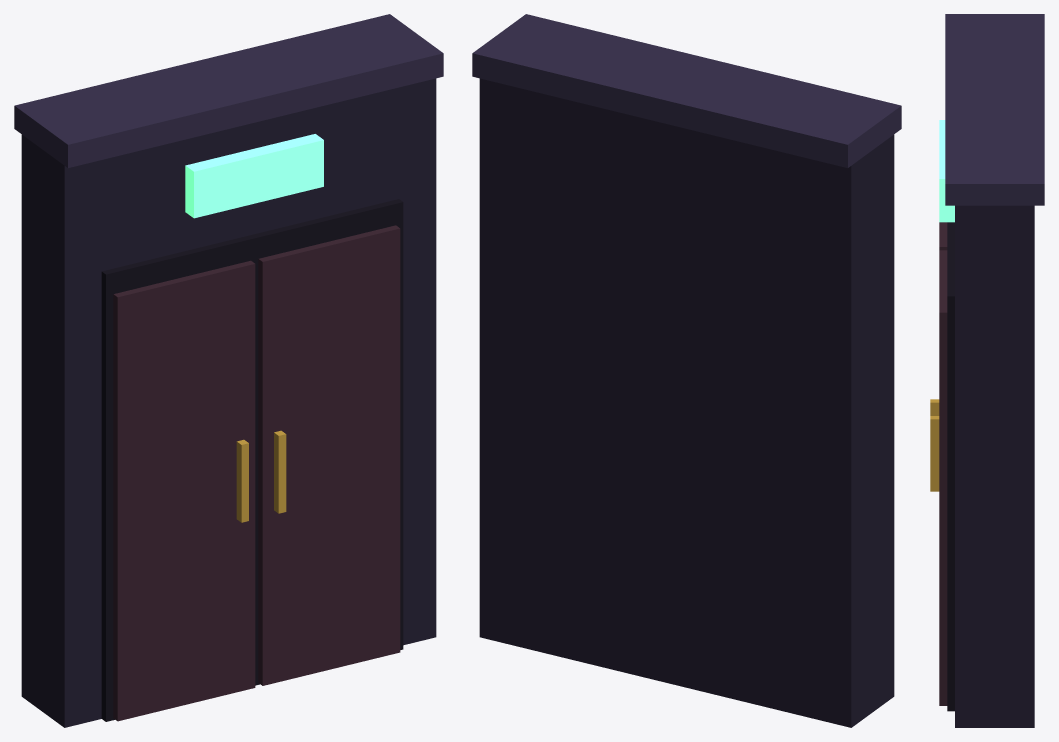
File: prop_club_door_ph.glb
3 renders of one model, left to right at view 1: azimuth 30°, elevation 25°; view 2: azimuth 150°, elevation 25°; view 3: azimuth 270°, elevation 25°, orthographic. The views are drawn at different scales.
Visible parts, largest first — view 1: prop_club_door; view 2: prop_club_door; view 3: prop_club_door.
Boxes of the visible parts, x1=… form: prop_club_door: x1=14, y1=14, x2=443, y2=727; prop_club_door: x1=472, y1=14, x2=901, y2=727; prop_club_door: x1=930, y1=14, x2=1044, y2=727.
Size of the model in its own units: 2.02 by 3.02 by 0.575.
